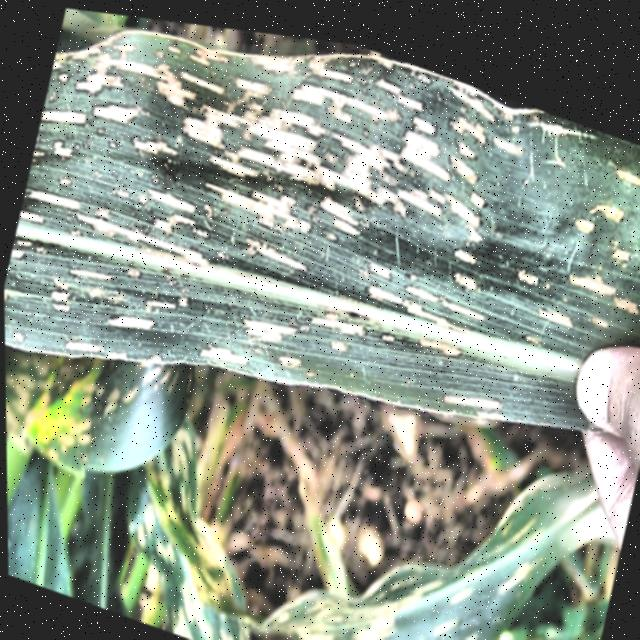gray_spot: (4, 19, 583, 424)
